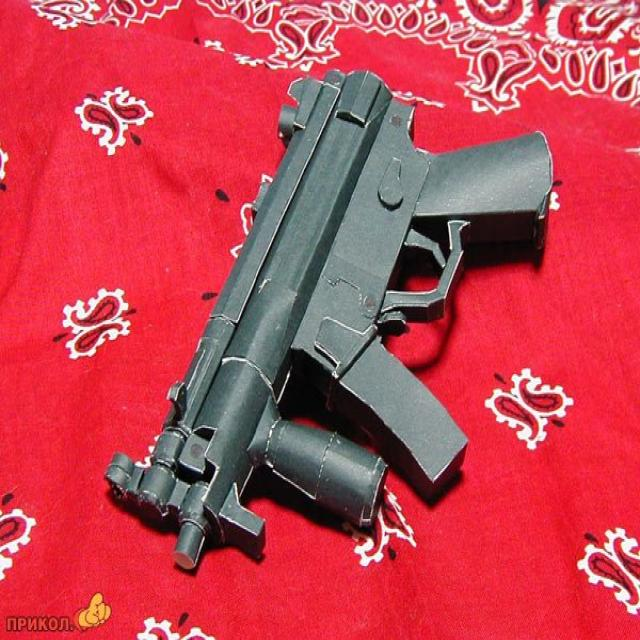firearm: (110, 69, 554, 577)
